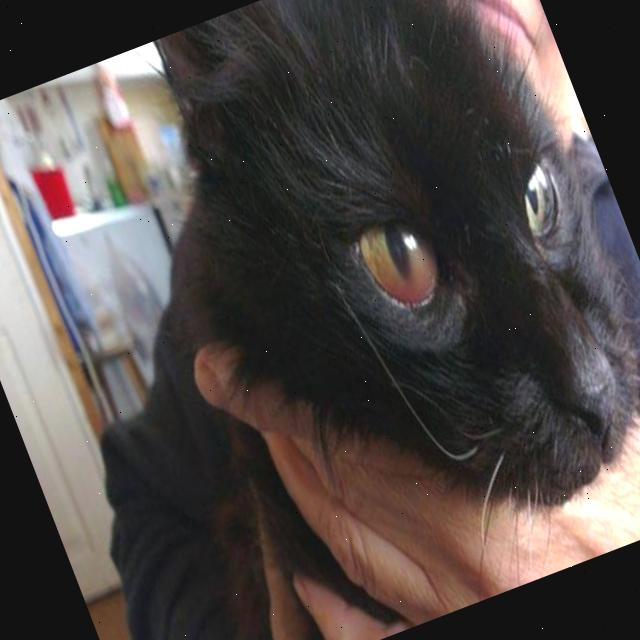cat-eye: (334, 176, 476, 360)
cat-eye-normal: (502, 160, 588, 270)
